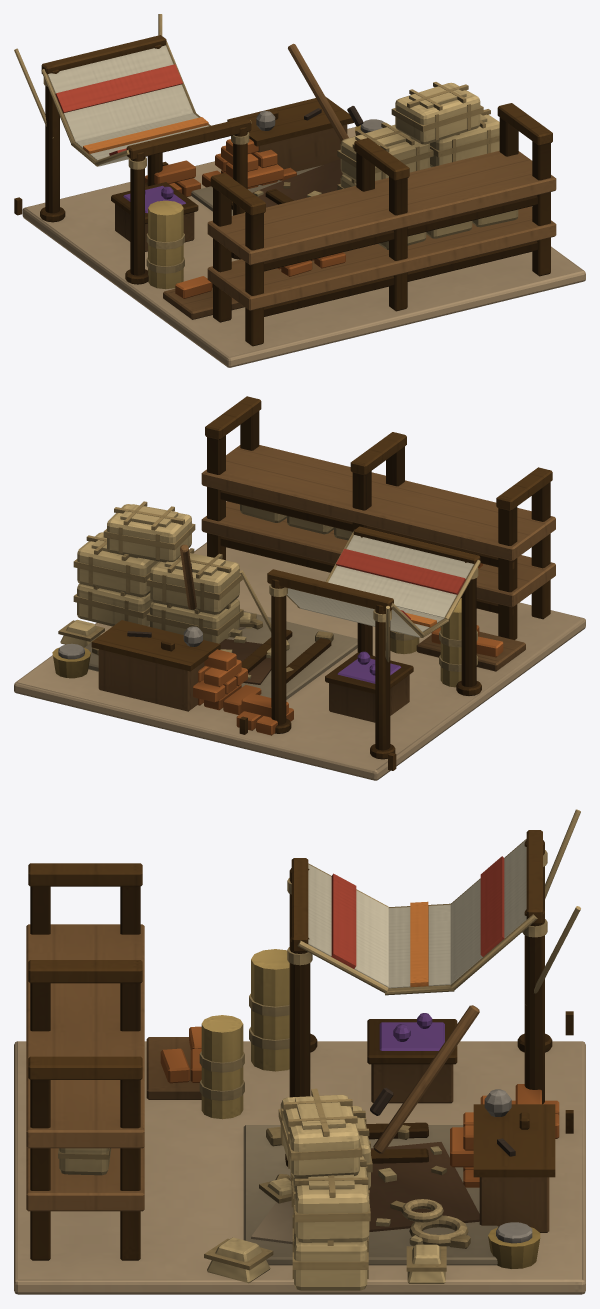
The model's file is luxury_material.glb.
3 renders of one model, top to bottom at view 1: azimuth 30°, elevation 25°; view 2: azimuth 150°, elevation 25°; view 3: azimuth 270°, elevation 25°, orthographic. The views are drawn at different scales.
Visible parts, largest first — view 1: luxury_material_wood_mid, luxury_material_wood_dark, luxury_material_dirt_apron, luxury_material_stone_warm, luxury_material_linen_pale, luxury_material_copper_ingot, luxury_material_stone_groove, luxury_material_cloth_red, luxury_material_thatch_mat, luxury_material_rope_tan, luxury_material_soil_dark, luxury_material_cloth_orange (+3 smaller); view 2: luxury_material_wood_dark, luxury_material_wood_mid, luxury_material_dirt_apron, luxury_material_stone_warm, luxury_material_linen_pale, luxury_material_stone_groove, luxury_material_copper_ingot, luxury_material_earth_pack, luxury_material_rope_tan, luxury_material_cloth_red, luxury_material_thatch_mat, luxury_material_soil_dark (+3 smaller); view 3: luxury_material_dirt_apron, luxury_material_wood_dark, luxury_material_wood_mid, luxury_material_stone_warm, luxury_material_linen_pale, luxury_material_earth_pack, luxury_material_rope_tan, luxury_material_stone_groove, luxury_material_thatch_mat, luxury_material_soil_dark, luxury_material_cloth_red, luxury_material_copper_ingot (+4 smaller).
Part boxes in pixels (x1,y1,x2,y2): luxury_material_wood_mid: [115, 43, 556, 319]; luxury_material_wood_dark: [14, 35, 552, 346]; luxury_material_dirt_apron: [22, 127, 585, 367]; luxury_material_stone_warm: [253, 82, 518, 249]; luxury_material_linen_pale: [48, 45, 208, 166]; luxury_material_copper_ingot: [145, 139, 345, 298]; luxury_material_stone_groove: [283, 82, 499, 189]; luxury_material_cloth_red: [55, 64, 182, 155]; luxury_material_thatch_mat: [148, 200, 245, 289]; luxury_material_rope_tan: [14, 14, 251, 273]; luxury_material_soil_dark: [252, 159, 342, 207]; luxury_material_cloth_orange: [83, 117, 208, 154]; luxury_material_wood_dark: [91, 396, 552, 770]; luxury_material_wood_mid: [98, 445, 555, 722]; luxury_material_dirt_apron: [14, 542, 585, 780]; luxury_material_stone_warm: [60, 504, 352, 679]; luxury_material_linen_pale: [287, 535, 473, 637]; luxury_material_stone_groove: [58, 501, 333, 671]; luxury_material_copper_ingot: [193, 563, 503, 735]; luxury_material_earth_pack: [84, 611, 357, 699]; luxury_material_rope_tan: [239, 531, 480, 671]; luxury_material_cloth_red: [336, 548, 465, 619]; luxury_material_thatch_mat: [390, 598, 461, 687]; luxury_material_soil_dark: [219, 639, 271, 684]; luxury_material_dirt_apron: [14, 1041, 585, 1294]; luxury_material_wood_dark: [28, 830, 573, 1260]; luxury_material_wood_mid: [26, 924, 549, 1232]; luxury_material_stone_warm: [59, 1094, 445, 1290]; luxury_material_linen_pale: [308, 839, 526, 988]; luxury_material_earth_pack: [243, 1125, 498, 1265]; luxury_material_rope_tan: [199, 809, 580, 1246]; luxury_material_stone_groove: [58, 1088, 470, 1278]; luxury_material_thatch_mat: [201, 949, 289, 1119]; luxury_material_soil_dark: [369, 1142, 479, 1231]; luxury_material_cloth_red: [331, 856, 504, 968]; luxury_material_copper_ingot: [160, 1026, 559, 1187].
Bounding box in the file's own units: 3.04 × 1.29 × 2.8.
17 materials, 15 textured.
